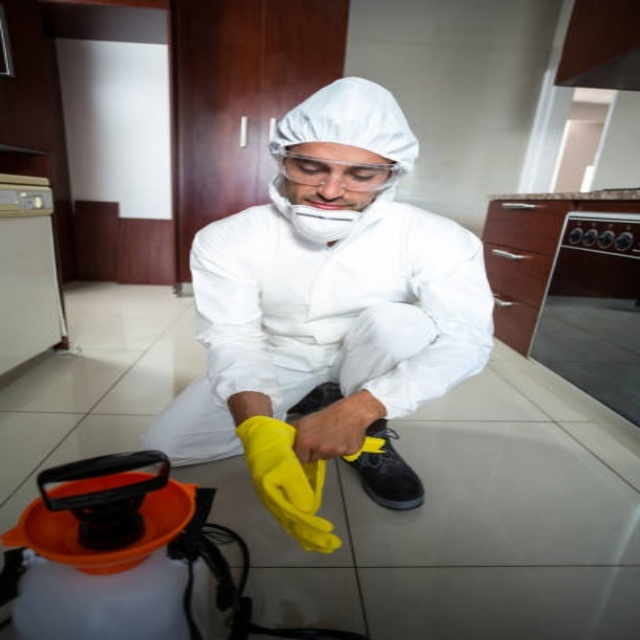Gafas: (277, 150, 402, 192)
Guantes: (233, 415, 344, 553)
Sin_guantes: (291, 394, 384, 461)
Sin_mascara: (308, 202, 350, 210)
